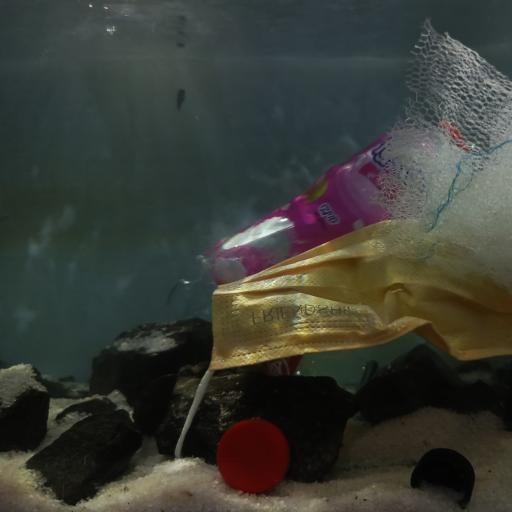bottle_cap: (215, 417, 291, 493), (410, 446, 474, 508)
mask: (204, 218, 512, 391)
net: (369, 15, 512, 290)
plastic_bottle: (200, 112, 476, 284), (163, 253, 380, 387)
